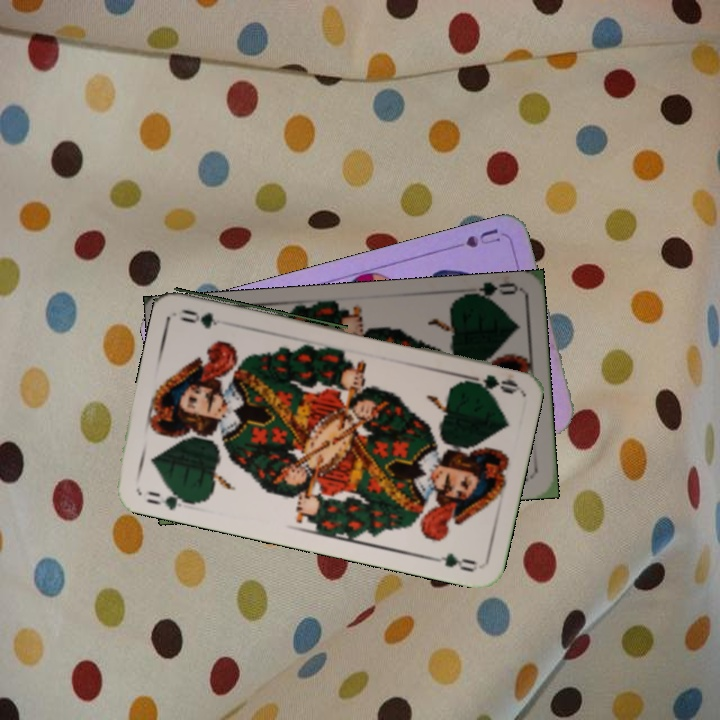GO: (459, 278, 518, 307), (458, 370, 519, 397), (142, 483, 195, 513)
SU: (444, 224, 503, 253)
